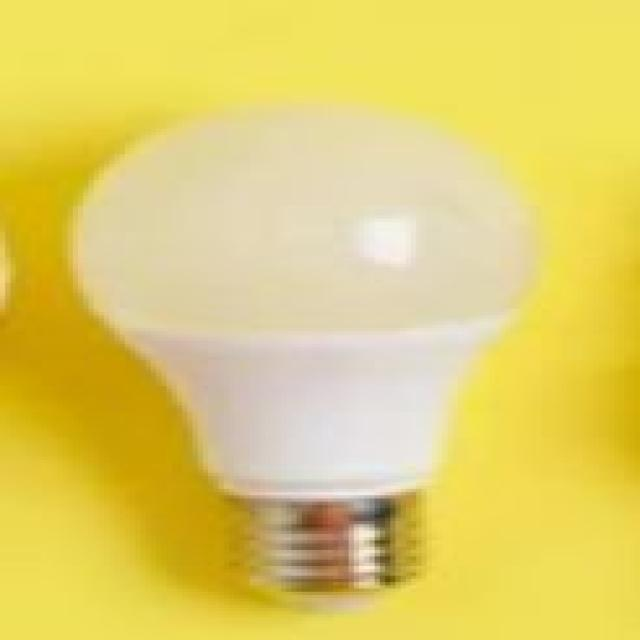electronic: (63, 96, 541, 595)
